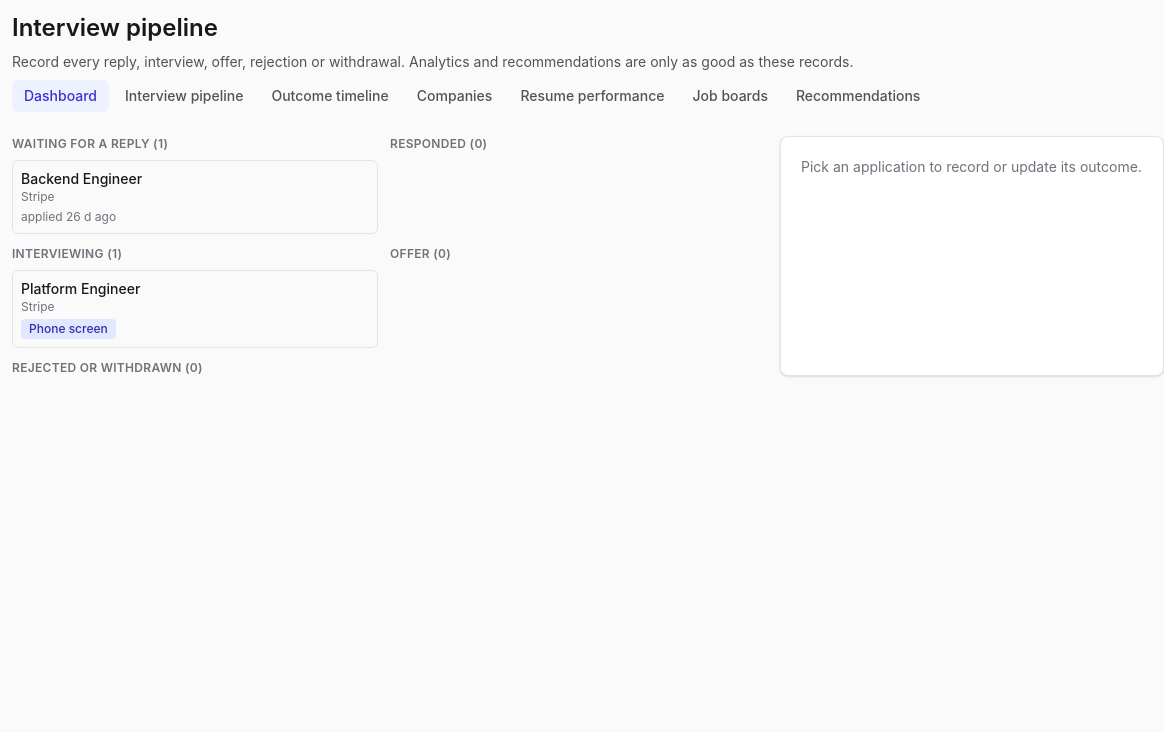
Scenario: InterviewPipeline › groups applications by stage and records an outcome
Later steps or results of the test are not shown.
Expected: the text "Backend Engineer" is shown, [21,170,142,187]
Expected: the text "Phone screen" is shown, [21,319,116,339]
Click the button "Backend Engineer Stripe applied 26 d ago".
click(82, 178)  # box [12,160,378,234]
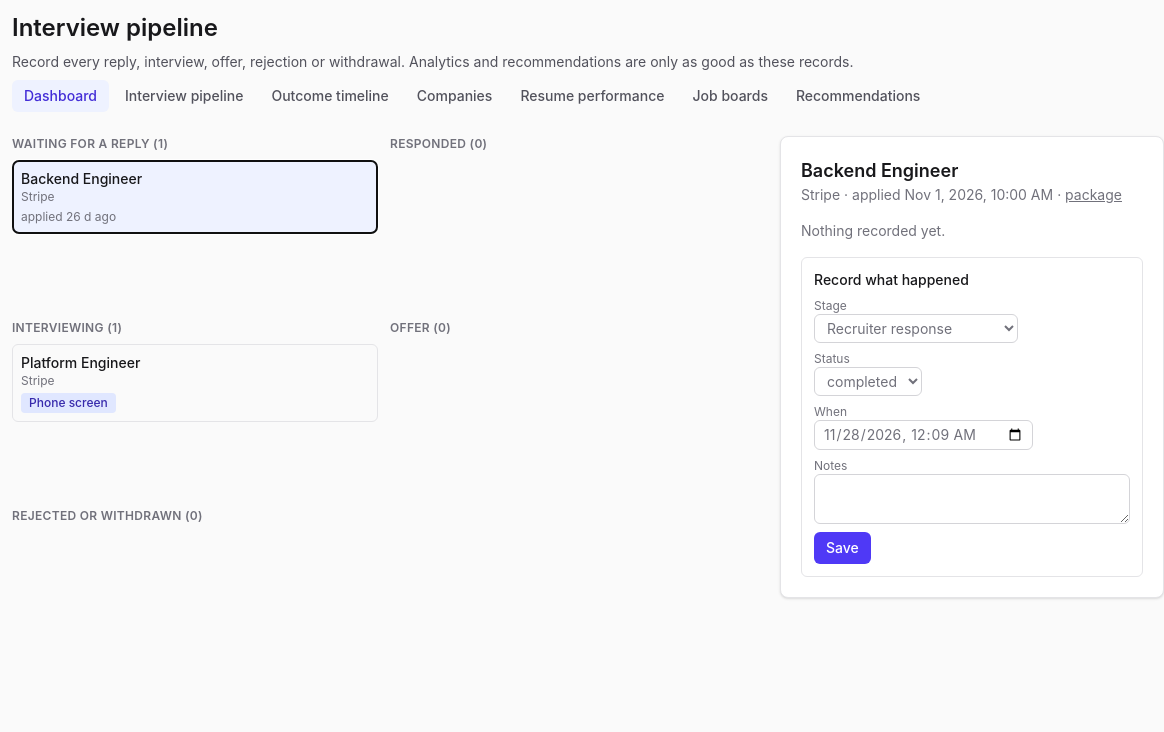
Expected: the text "Nothing recorded yet." is shown, [801,222,945,239]
Select "Rejection" in the dropdown labelled "Stage" at [916, 328], box [814,314,1018,343]
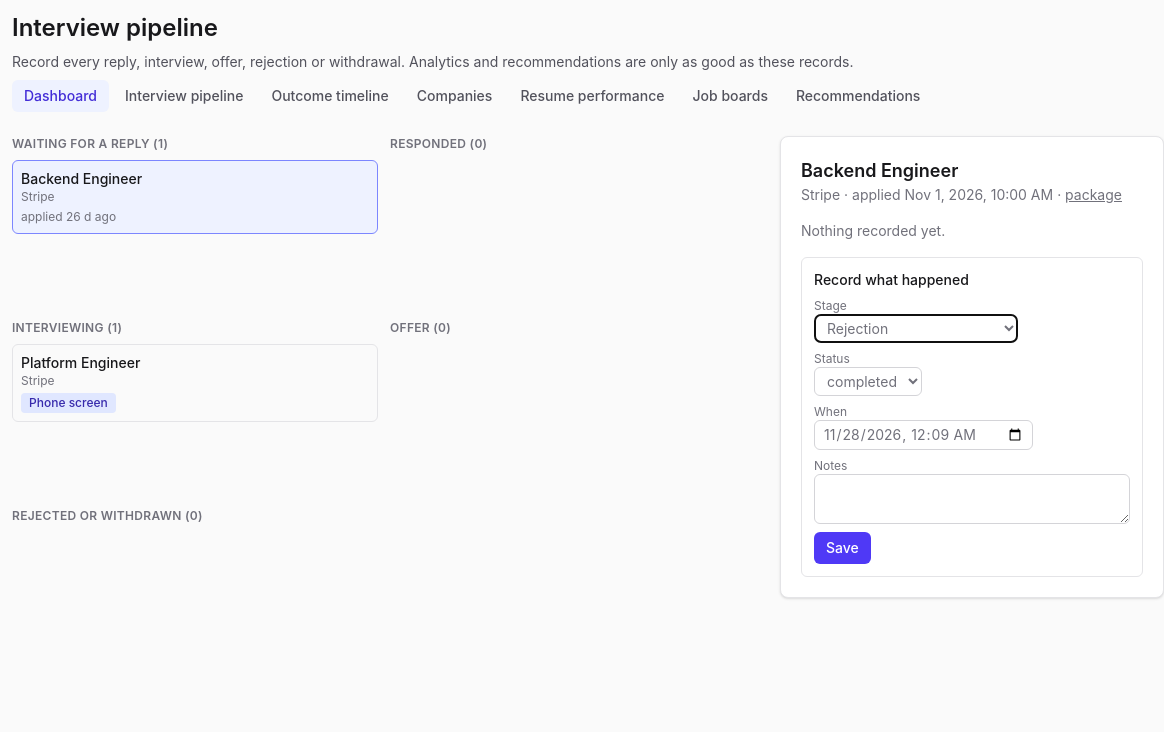
Expected: the dropdown labelled "Status" is disabled, [814,367,922,396]
